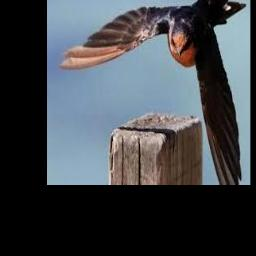Swallow: (60, 0, 246, 185)
